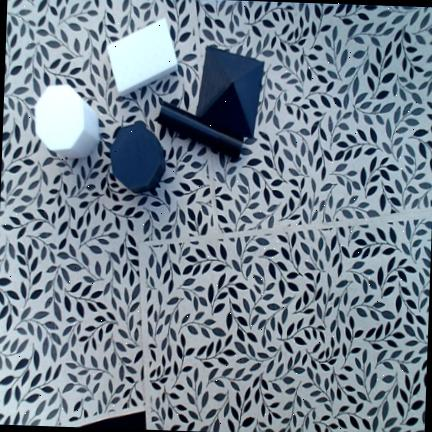Cilindro: (157, 102, 244, 159)
Paralelepipedo: (106, 18, 178, 96)
Piramide: (195, 48, 265, 138)
Prisma_hexagonal: (35, 85, 100, 159), (110, 123, 166, 194)
